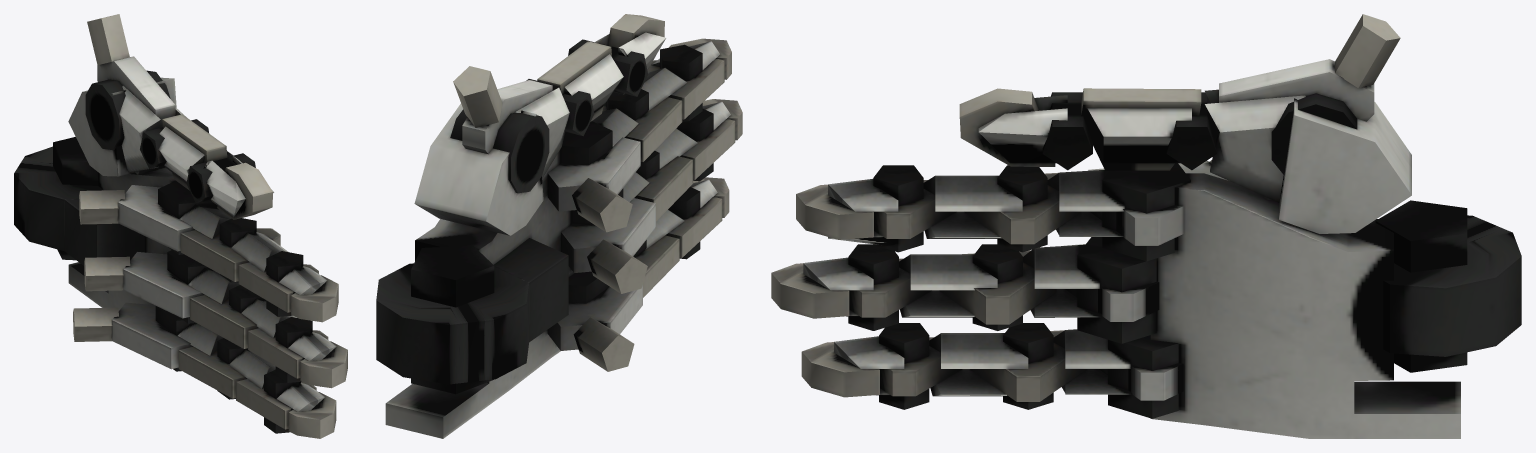
File: Atlas_Hand_Right.fbx
The picture shows the model from 3 angles, left to right: view 1: azimuth 30°, elevation 25°; view 2: azimuth 150°, elevation 25°; view 3: azimuth 270°, elevation 25°; orthographic projection. The views are drawn at different scales.
Parts seen in each view (by area): view 1: Atlas_Hand_Right; view 2: Atlas_Hand_Right; view 3: Atlas_Hand_Right.
Boxes of the visible parts, x1,y1,x2,y2 form: Atlas_Hand_Right: [14, 14, 347, 438]; Atlas_Hand_Right: [376, 14, 742, 438]; Atlas_Hand_Right: [771, 14, 1521, 438].
Size of the model in its own units: 4.91 by 9.71 by 16.93.
